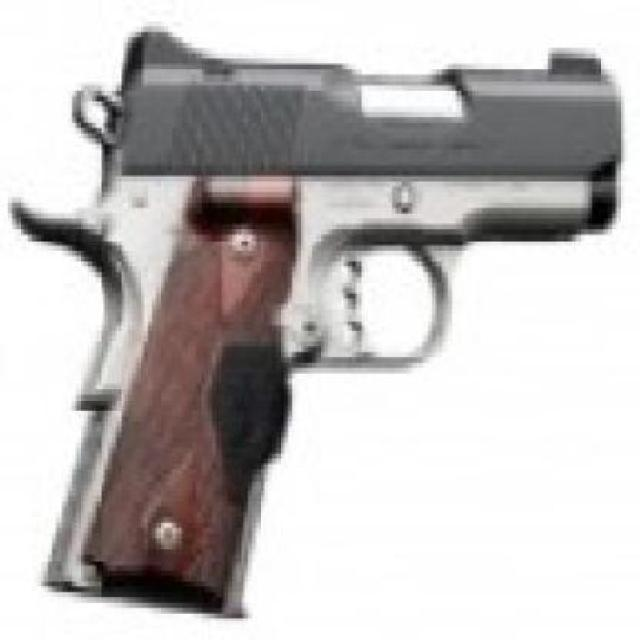gun: (8, 33, 620, 630)
